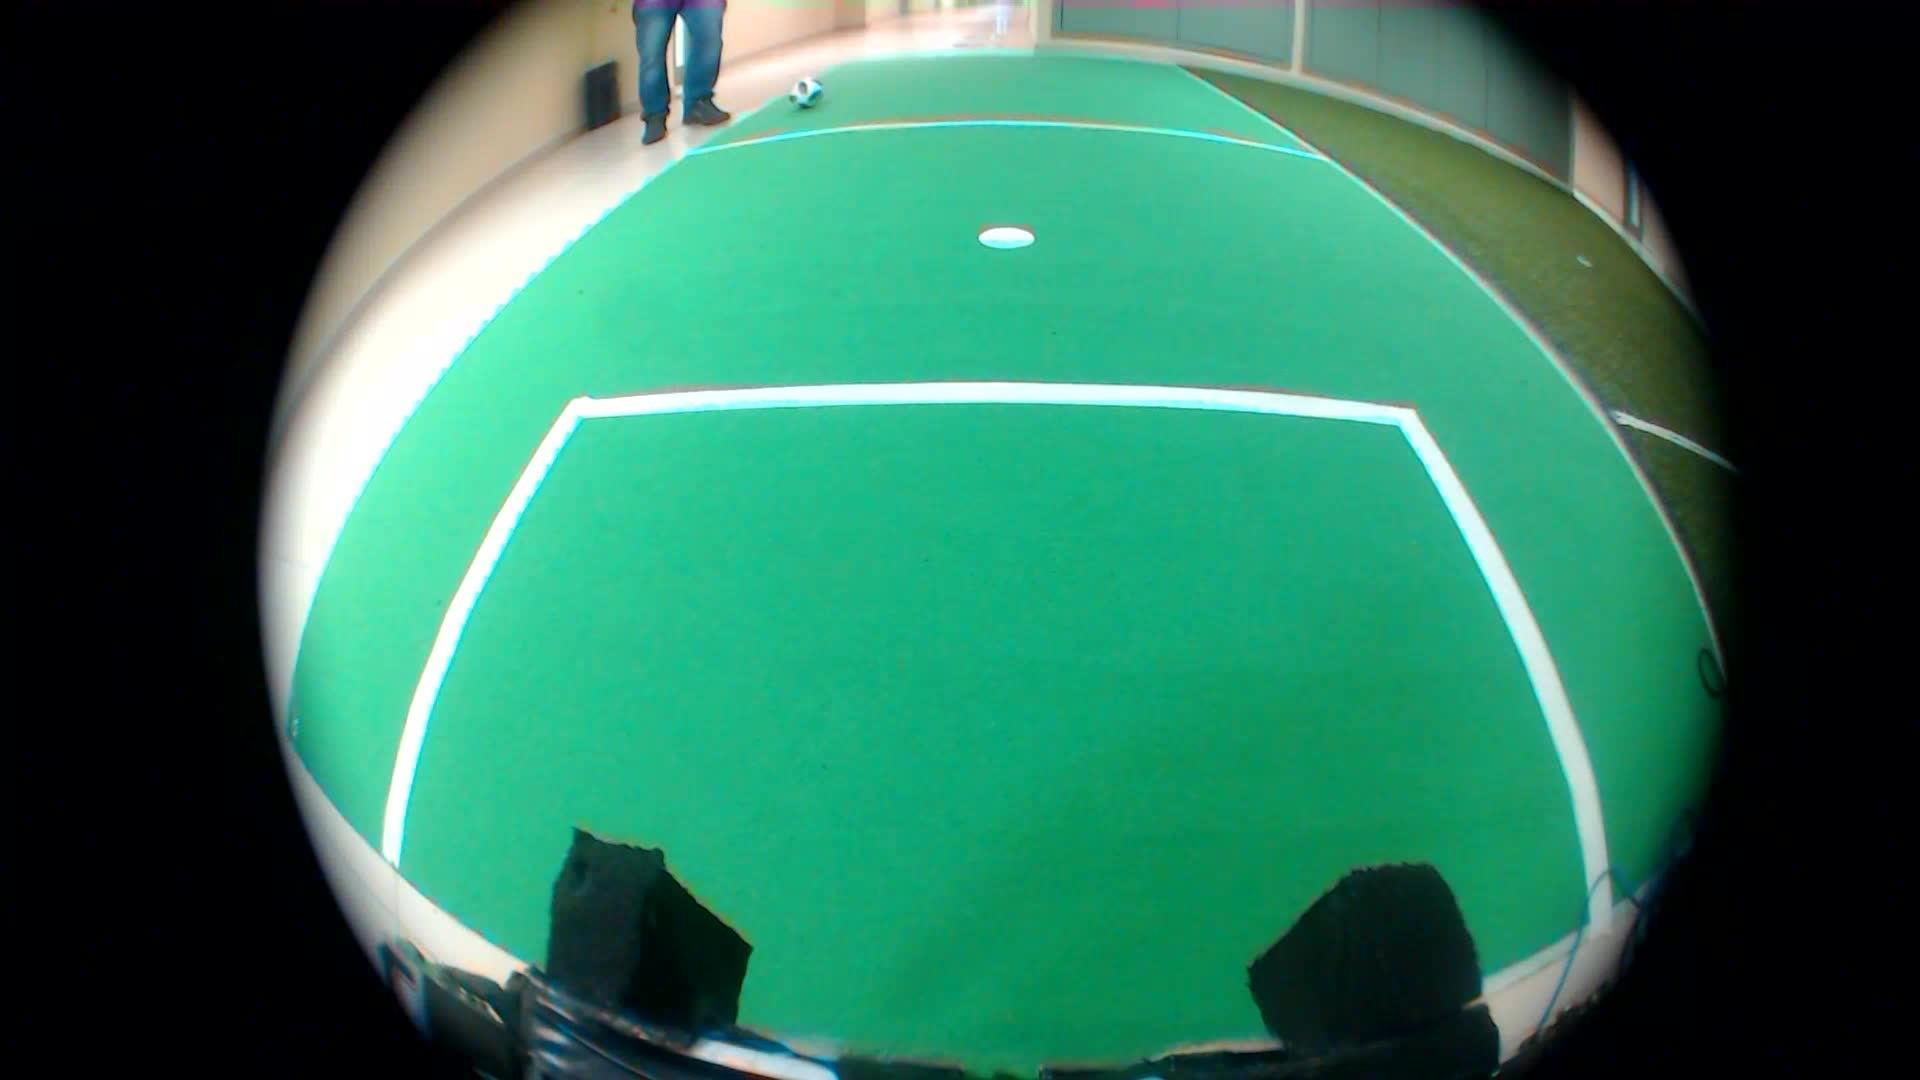ball: (786, 69, 833, 117)
